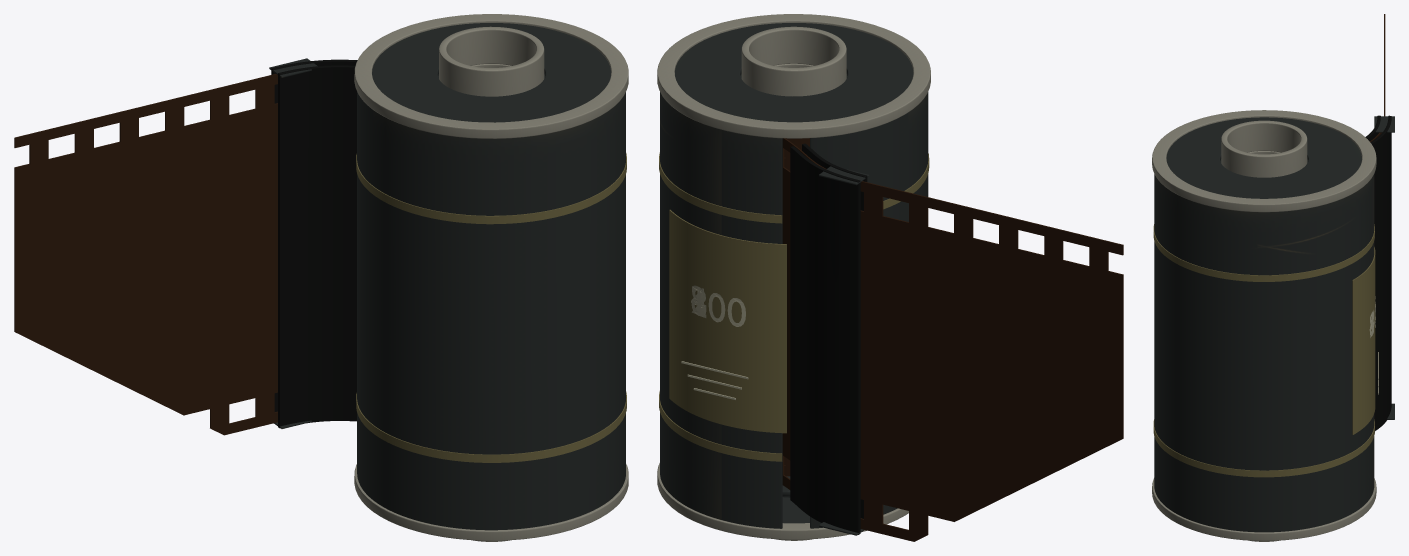
Rendered from B03_FilmCartridge.fbx.
The picture shows the model from 3 angles, left to right: view 1: azimuth 30°, elevation 25°; view 2: azimuth 150°, elevation 25°; view 3: azimuth 270°, elevation 25°; orthographic projection. The views are drawn at different scales.
Parts seen in each view (by area): view 1: Shell_Mesh, FilmLeader, Outlet_Mesh, CartridgeSpool_Mesh, ISOBand_Mesh; view 2: FilmLeader, Shell_Mesh, Outlet_Mesh, ISOBand_Mesh, CartridgeSpool_Mesh, ISO_100_Mesh; view 3: Shell_Mesh, ISOBand_Mesh, Outlet_Mesh, CartridgeSpool_Mesh.
Part boxes in pixels (x1,y1,x2,y2): Shell_Mesh: (354, 14, 628, 540); FilmLeader: (14, 74, 277, 435); Outlet_Mesh: (269, 58, 357, 428); CartridgeSpool_Mesh: (438, 26, 544, 541); ISOBand_Mesh: (356, 153, 626, 462); FilmLeader: (782, 138, 1123, 541); Shell_Mesh: (657, 14, 930, 539); Outlet_Mesh: (790, 143, 869, 535); ISOBand_Mesh: (659, 152, 929, 461); CartridgeSpool_Mesh: (740, 26, 847, 540); ISO_100_Mesh: (697, 286, 745, 326); Shell_Mesh: (1152, 110, 1376, 540); ISOBand_Mesh: (1153, 224, 1378, 477); Outlet_Mesh: (1365, 115, 1394, 430); CartridgeSpool_Mesh: (1220, 120, 1307, 541).
Size of the model in its own units: 0.0549 by 0.0475 by 0.0271.
